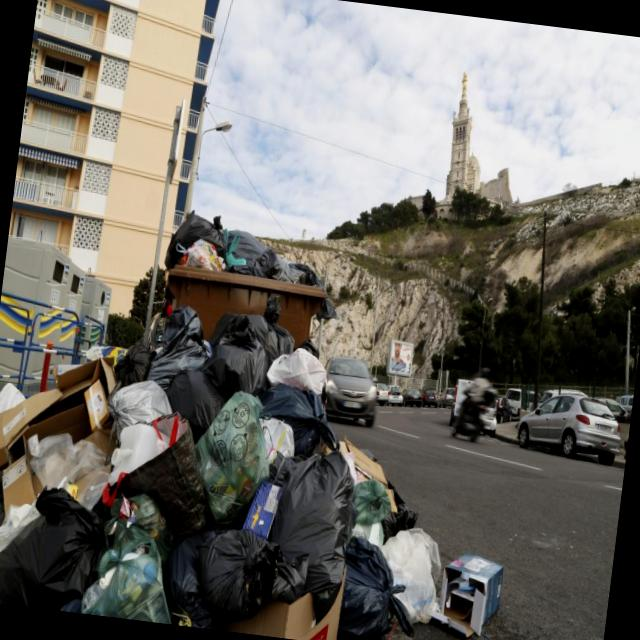garbage: (0, 247, 554, 640)
